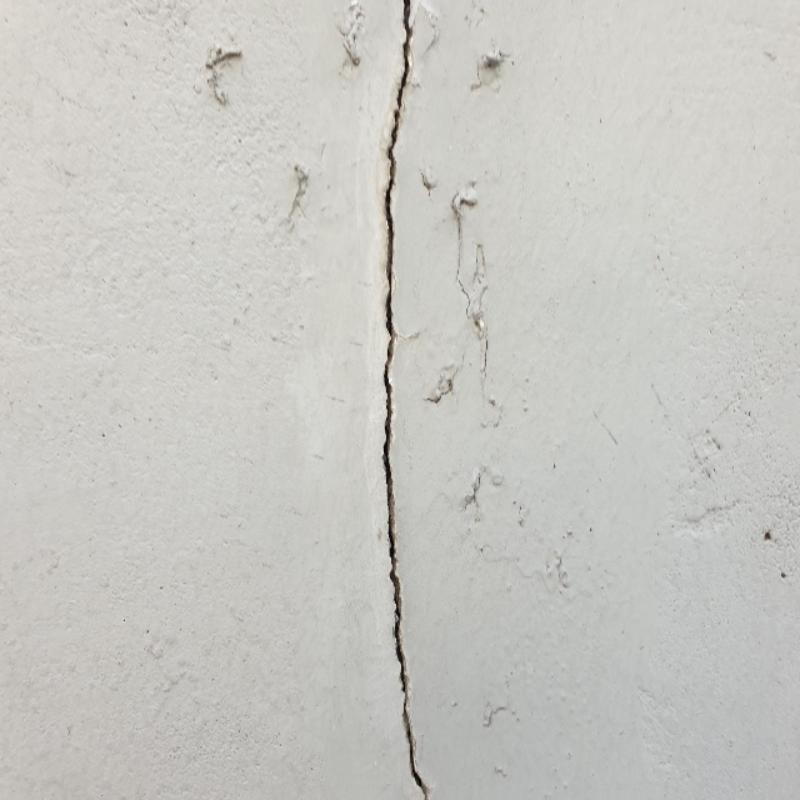crack: (380, 3, 434, 799)
